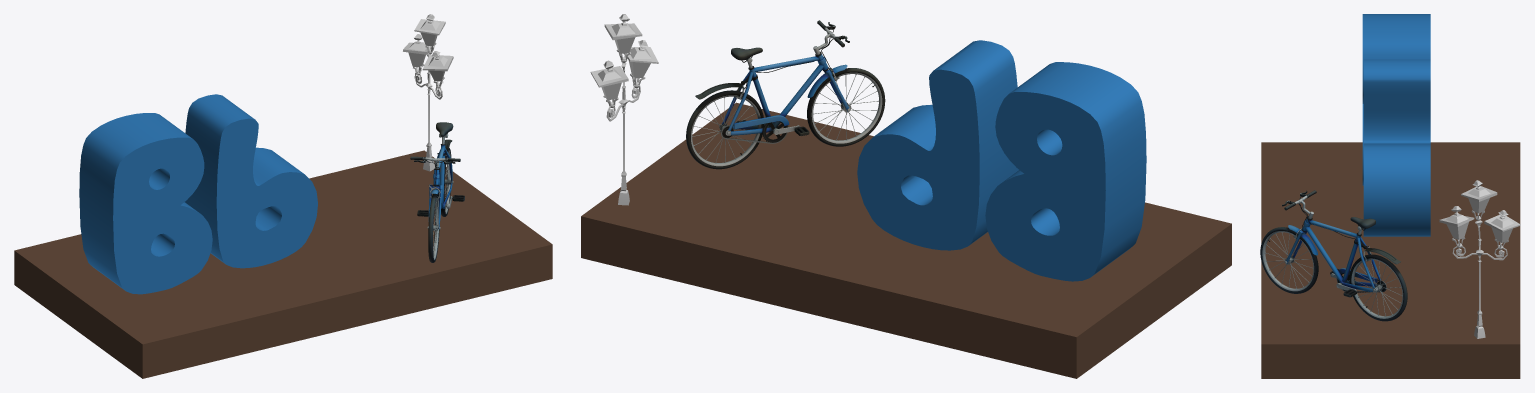
File: Bb_bicicleta_anim.fbx
The picture shows the model from 3 angles, left to right: view 1: azimuth 30°, elevation 25°; view 2: azimuth 150°, elevation 25°; view 3: azimuth 270°, elevation 25°; orthographic projection. The views are drawn at different scales.
Visible parts, largest first — view 1: root.001, node_id187, node_id194, node_id226, node_id234; view 2: root.001, node_id187, node_id194, node_id226, node_id234; view 3: root.001, node_id194, node_id226, node_id187, node_id234.
Boxes of the visible parts, bbox=[...] form: root.001: bbox=[14, 150, 552, 378]; node_id187: bbox=[79, 113, 212, 294]; node_id194: bbox=[185, 94, 317, 268]; node_id226: bbox=[410, 122, 464, 262]; node_id234: bbox=[403, 14, 453, 171]; root.001: bbox=[581, 102, 1231, 378]; node_id187: bbox=[985, 62, 1146, 281]; node_id194: bbox=[857, 40, 1018, 250]; node_id226: bbox=[686, 20, 885, 169]; node_id234: bbox=[590, 14, 658, 205]; root.001: bbox=[1261, 142, 1520, 378]; node_id194: bbox=[1363, 59, 1430, 236]; node_id226: bbox=[1260, 190, 1407, 321]; node_id187: bbox=[1362, 14, 1430, 185]; node_id234: bbox=[1439, 180, 1520, 338].
Size of the model in its own units: 710 by 313 by 386.
